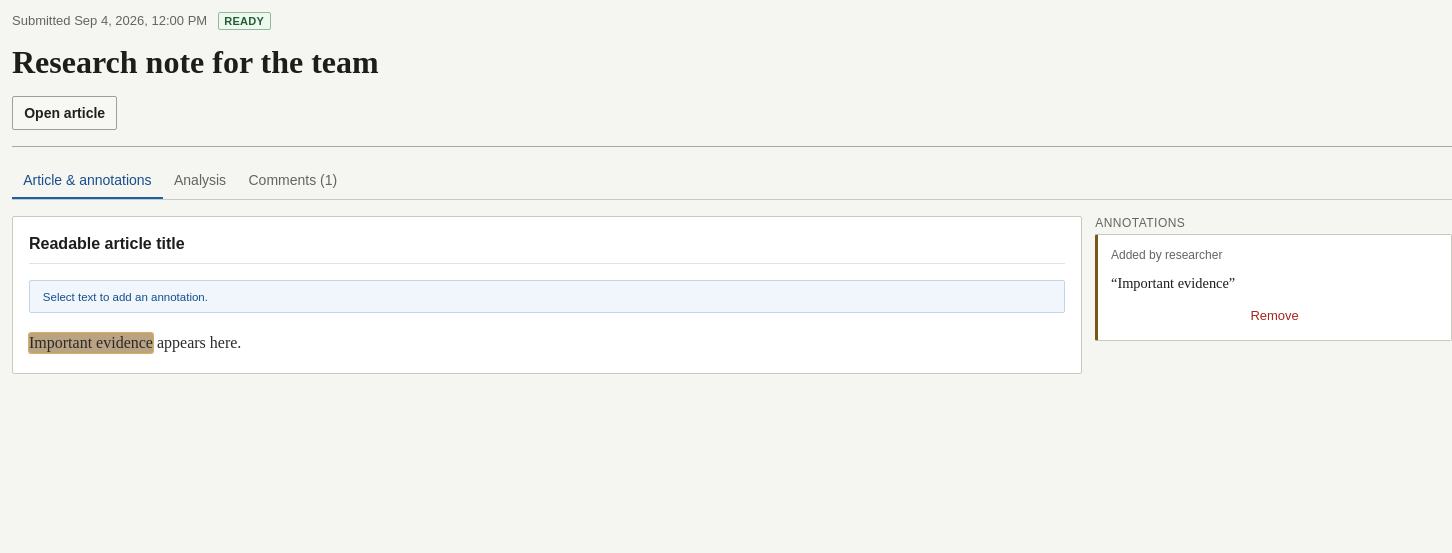
researcher-facing signal page › shows the three useful views and omits internal record and pipeline UI
Expected: the tab "Comments (1)" is shown, [237,163,348,199]
Expected: the heading "Readable article title" is shown, [29,233,185,254]
Click the tab "Analysis" at point(200, 181), box [163,163,237,199]
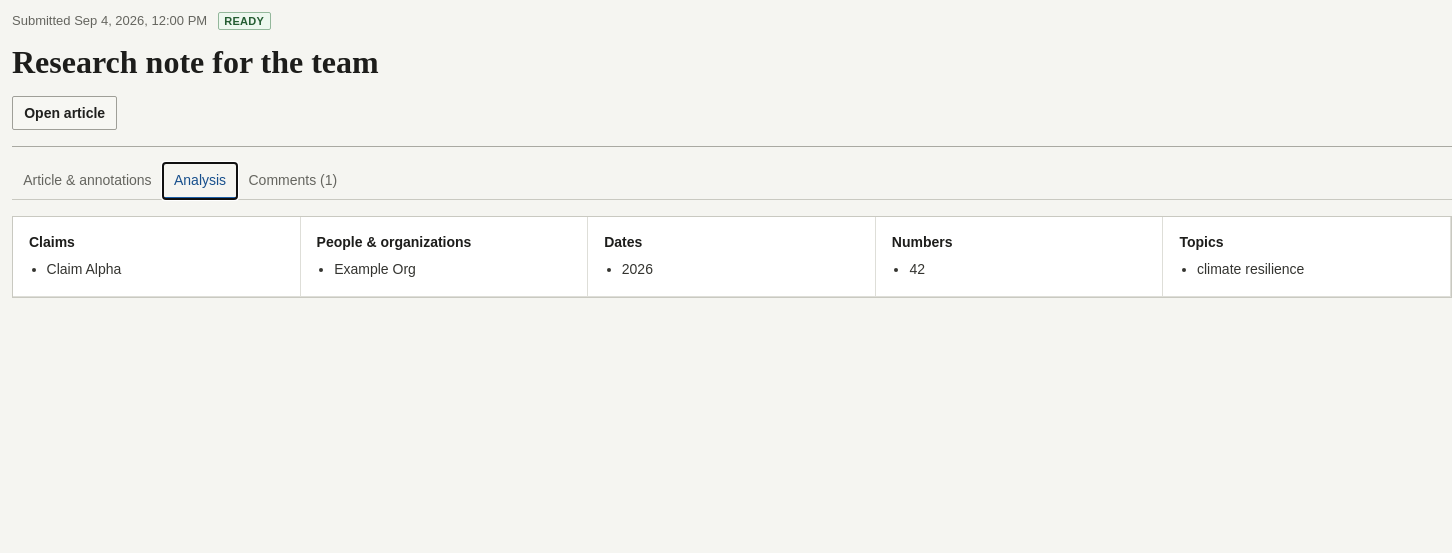
Expected: the list item "Claim Alpha" is shown, [47,262,121,278]
Expected: the list item "Example Org" is shown, [334,262,416,278]
Expected: the list item "climate resilience" is shown, [1197,262,1304,278]
Click the tab "Comments (1)" at point(293, 181), box [237,163,348,199]
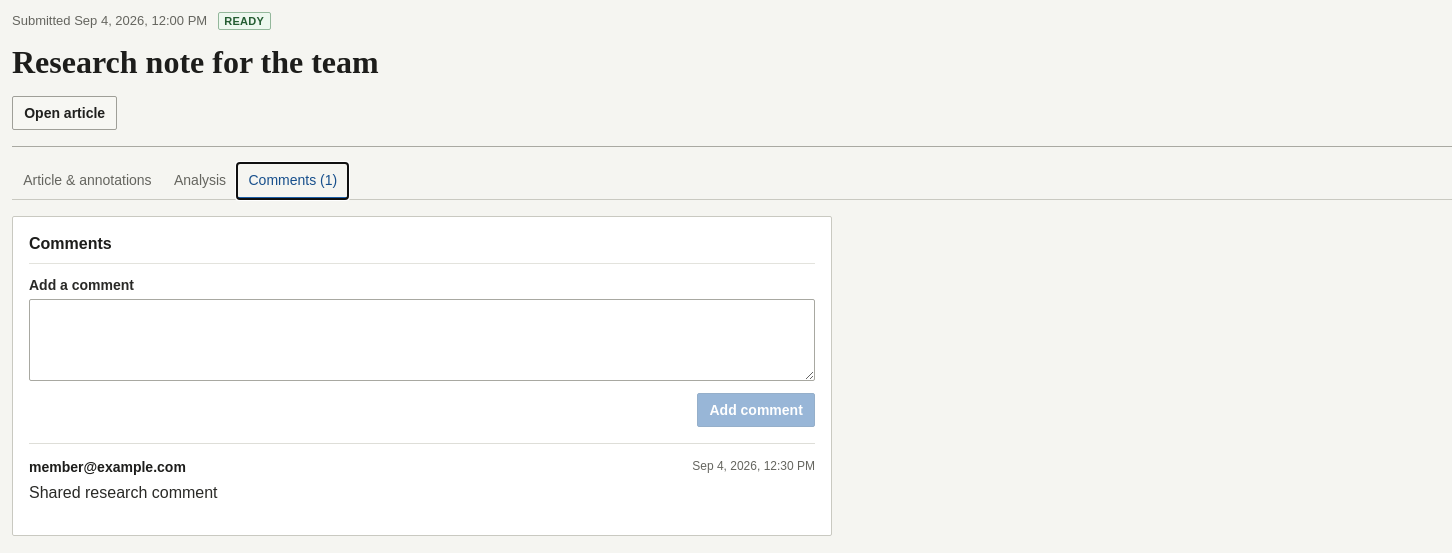
Expected: the text "Shared research comment" is shown, [29,484,218,501]
Expected: the text "member@example.com" is shown, [29,459,186,475]
